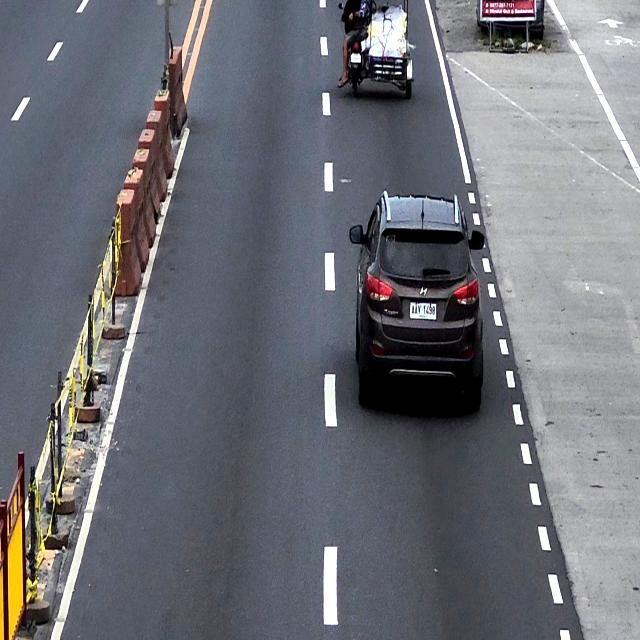Car: (348, 190, 488, 415)
License-Plate: (409, 302, 436, 320), (351, 52, 361, 62)
Tricycle: (338, 4, 414, 99)
